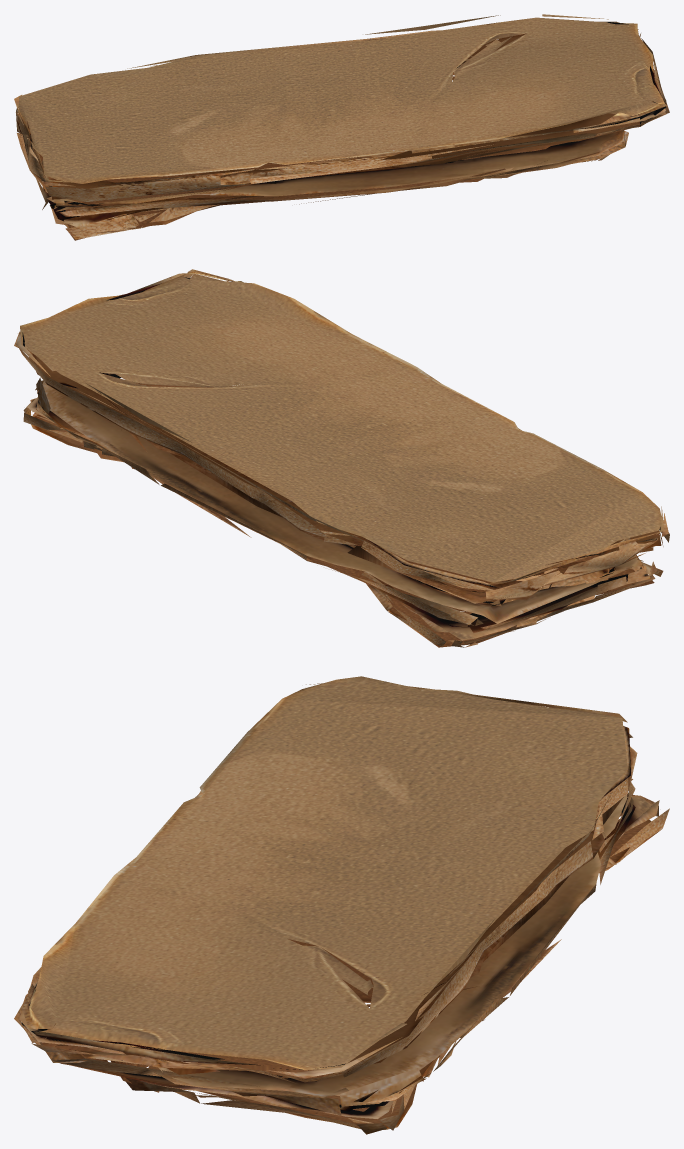
File: desert_ledge_a_flat_lod1.glb
3 renders of one model, top to bottom at view 1: azimuth 30°, elevation 25°; view 2: azimuth 150°, elevation 25°; view 3: azimuth 270°, elevation 25°, orthographic. The views are drawn at different scales.
Visible parts, largest first — view 1: desert_ledge_a_flat.001; view 2: desert_ledge_a_flat.001; view 3: desert_ledge_a_flat.001.
Part boxes in pixels (x1=…): desert_ledge_a_flat.001: x1=14, y1=14, x2=669, y2=240; desert_ledge_a_flat.001: x1=14, y1=269, x2=669, y2=647; desert_ledge_a_flat.001: x1=14, y1=676, x2=669, y2=1134.
Size of the model in its own units: 5.18 by 0.7451 by 3.28.
1 material, 1 textured.
